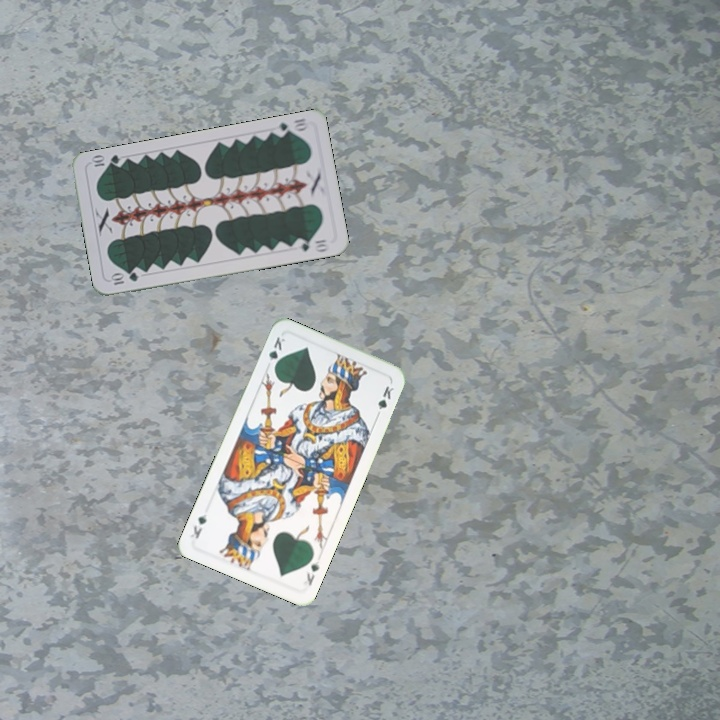G10: (270, 114, 311, 139), (107, 268, 141, 288)
GK: (264, 332, 287, 372), (302, 557, 322, 589)
